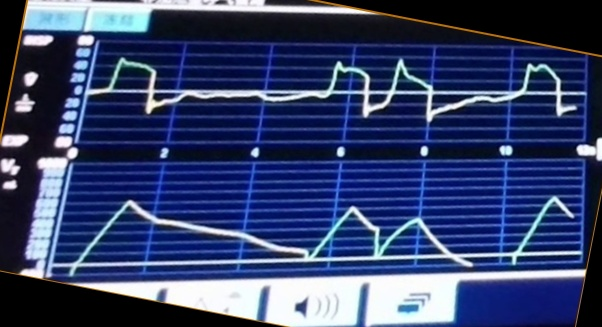Double_Triggering Flow: (102, 57, 575, 128)
Double_Triggering Volume: (74, 193, 573, 269)
